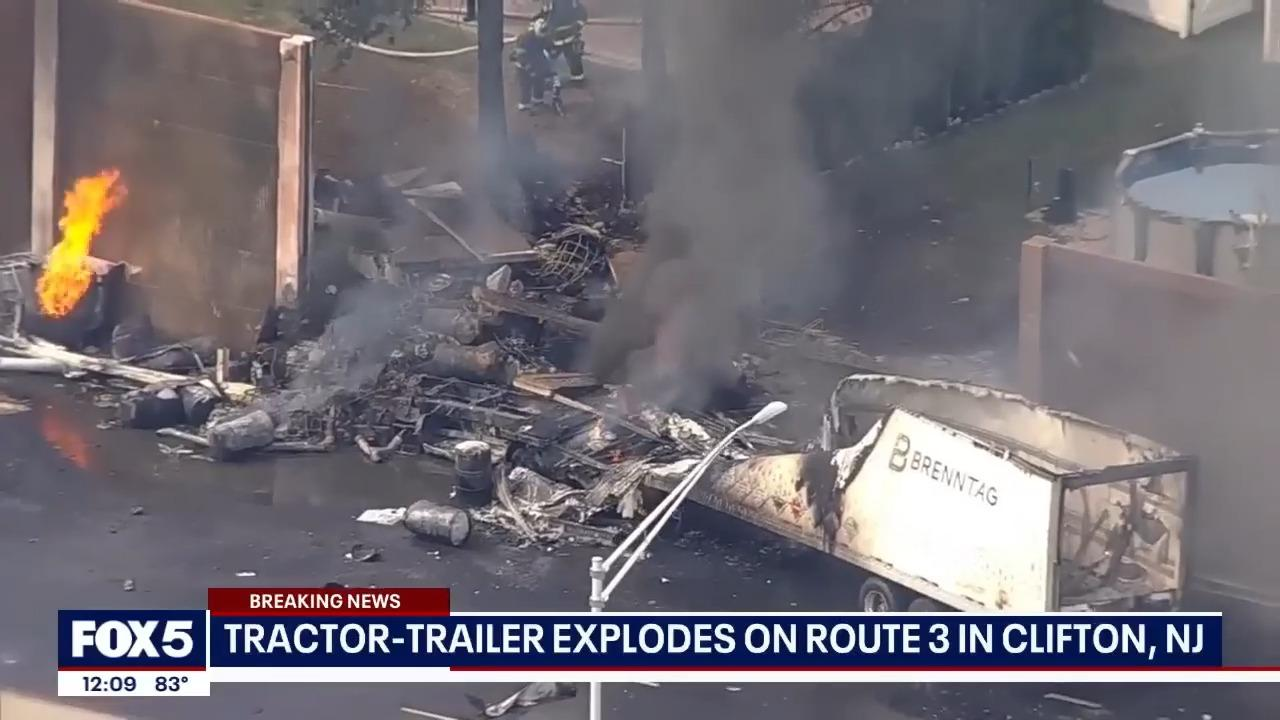fire: (26, 155, 131, 325)
